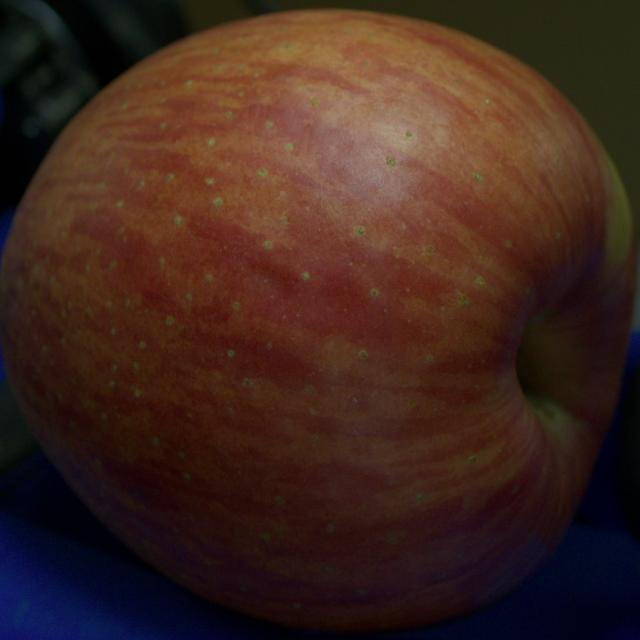apple: (0, 11, 635, 631)
